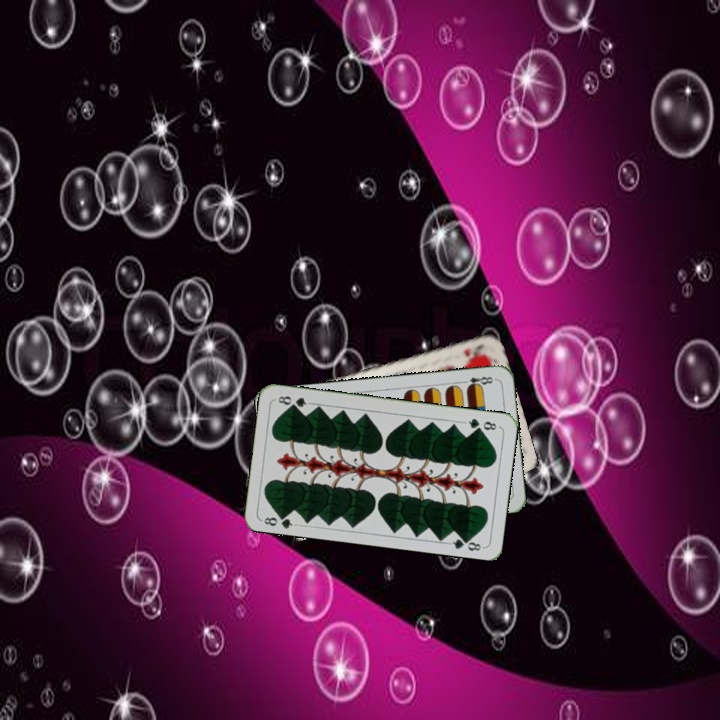E8: (457, 372, 498, 391)
G8: (258, 509, 299, 530), (461, 414, 501, 433)
HK: (459, 339, 483, 360)
